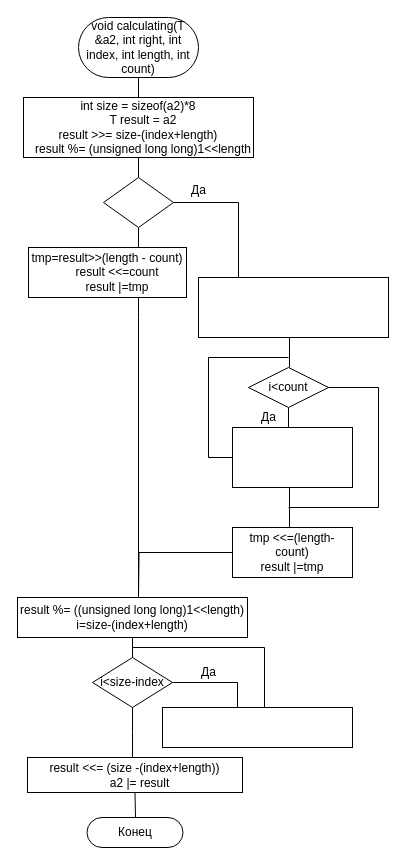
The diagram is 406 pixels wide and 865 high, and some of its shapes have lost their labels. Each missing label, with the box of its shape:
a2 &= ~((unsigned long long)1<<i) i++: (162, 706, 352, 748)
right: (102, 176, 174, 228)
tmp2 |= tmp&(unsigned long long)1<<(count -1 -i) i++: (232, 426, 352, 488)
tmp= result%((unsigned long long)1<<count) result >>=count i=0: (198, 276, 388, 338)
